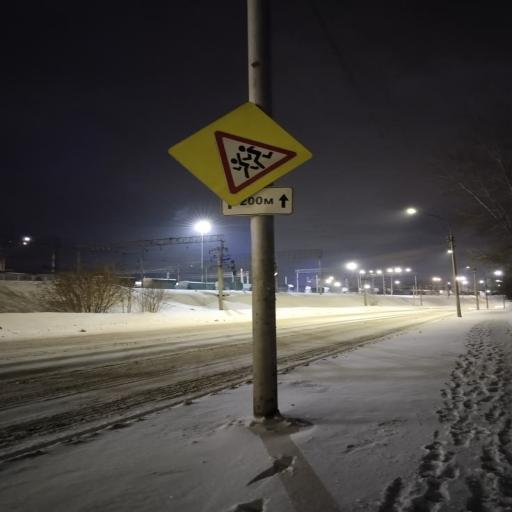phone: (407, 209, 461, 317), (251, 217, 279, 418), (472, 267, 479, 310)
ramp: (0, 322, 252, 454)
